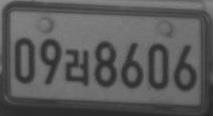0: (13, 37, 36, 84), (147, 43, 169, 90)
6: (173, 44, 198, 91), (120, 41, 144, 89)
8: (93, 40, 117, 88)
9: (39, 38, 63, 85)
러: (65, 48, 89, 87)
